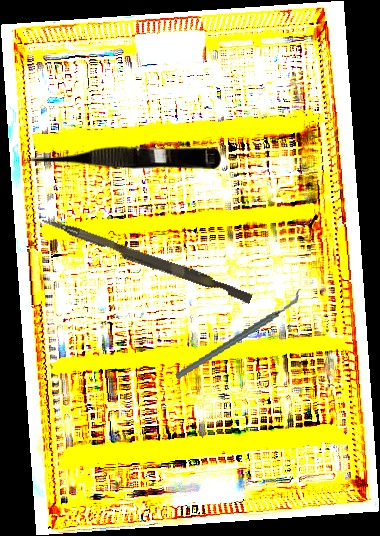Chopper: (165, 288, 312, 381)
Micro Scissor: (23, 143, 221, 169)
Pusher: (38, 216, 255, 304)
